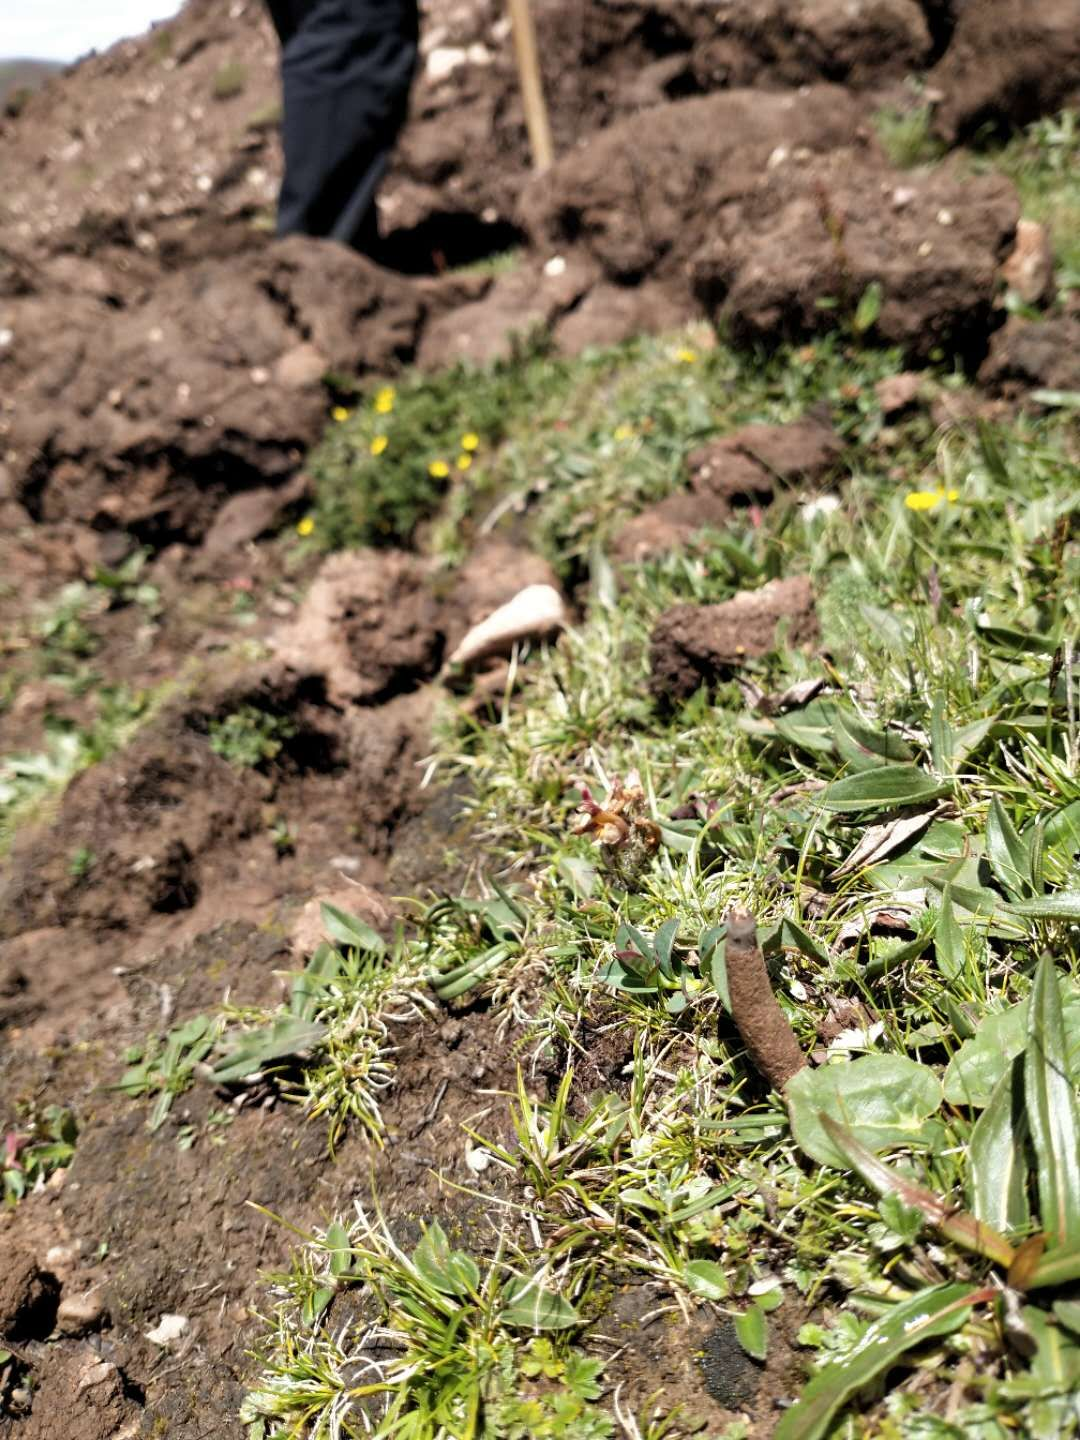cpf: (722, 916, 825, 1098)
